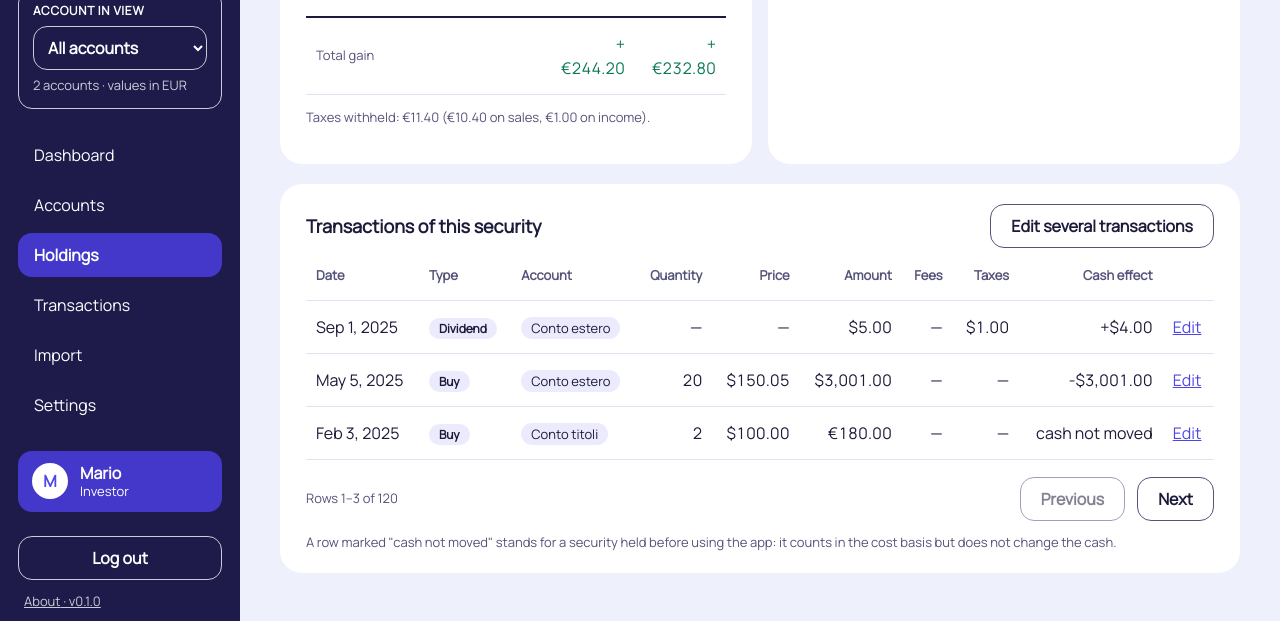
Test case: holding detail (mockup 03 without the chart, D-146) › goes back to the first page of transactions when the account in view changes
(page scrolled)
Expected: the element "Transactions of this security" is shown, [280,184,1240,573]
Click the button "Next" at [1176, 498], box [1137,476,1214,520]
(page scrolled)
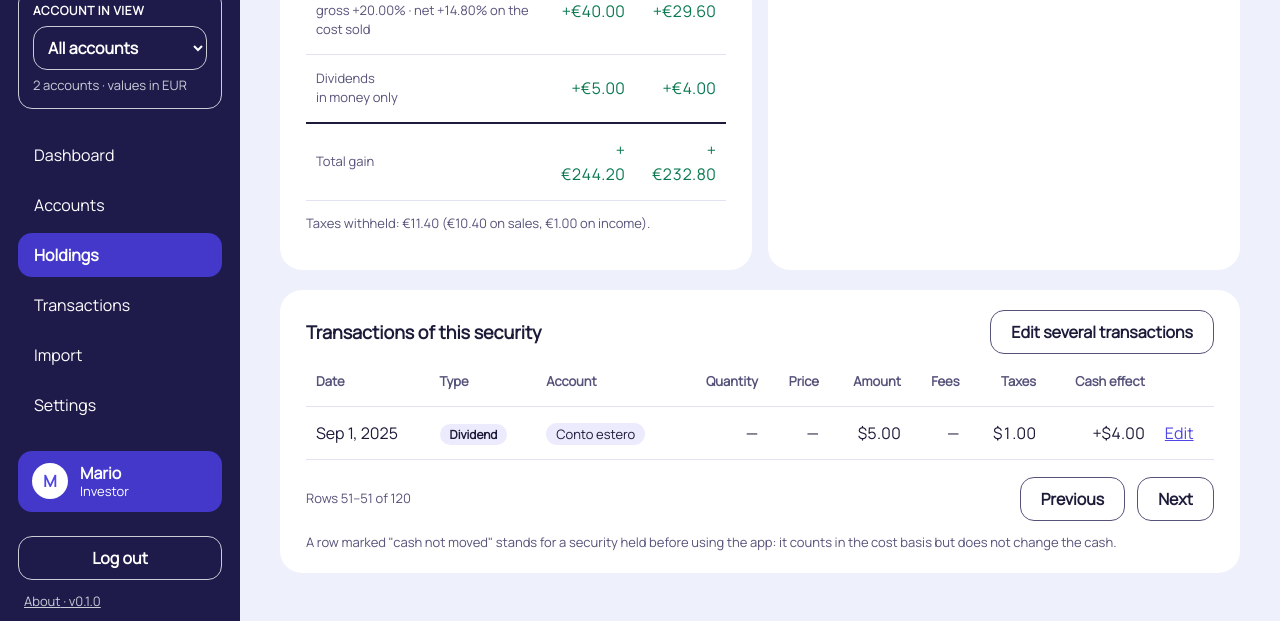
Now the text "Rows 51–51 of 120" is shown, box [306,489,411,508]
